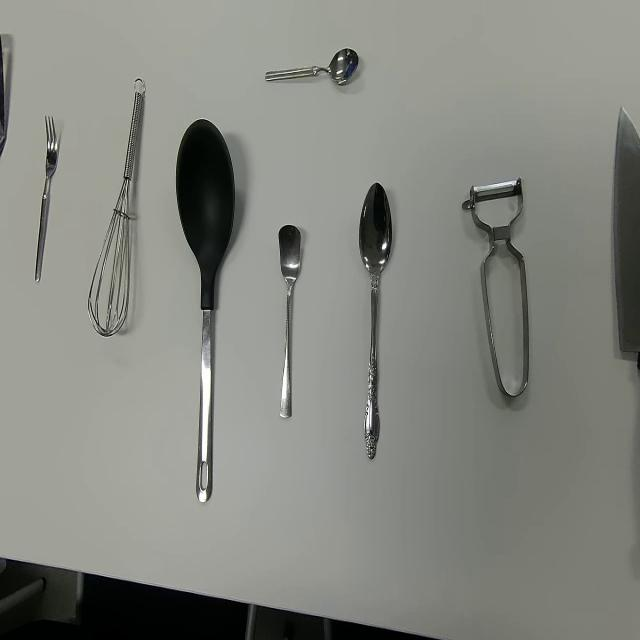Desert-Spoon: (358, 181, 393, 461)
Dinner-Fork: (34, 113, 58, 284)
Kitchen-Knife: (612, 104, 640, 377)
Peeler: (461, 174, 530, 397)
Serving-Spoon: (175, 117, 236, 504)
Tea-Spoon: (278, 222, 302, 419), (264, 45, 360, 86)
Whisk: (87, 76, 146, 338)
